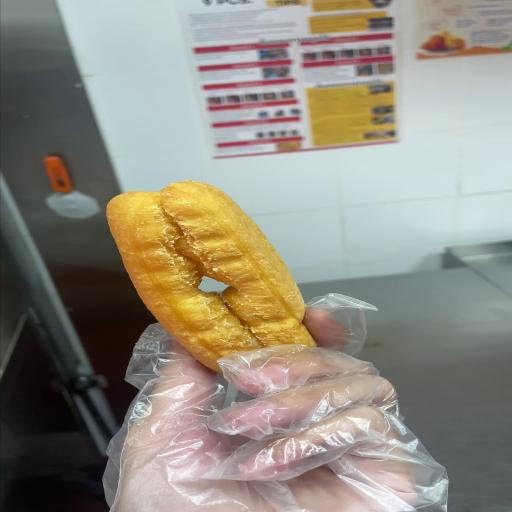brand_golden_defect: (107, 181, 315, 371)
